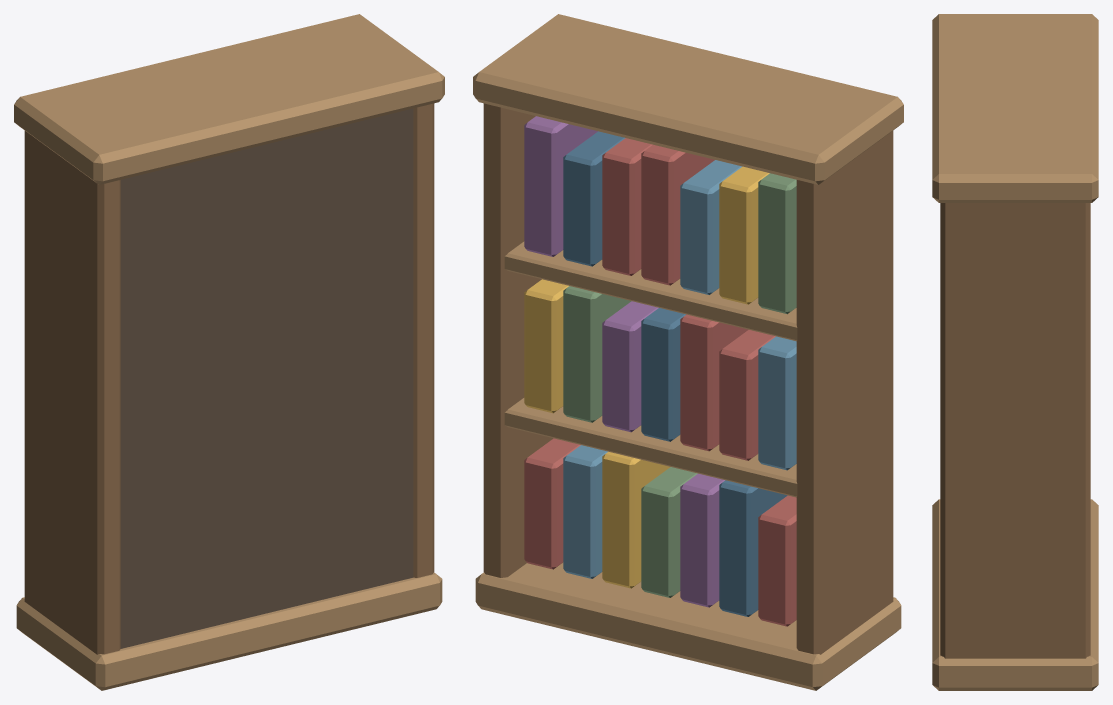
Rendered from BUILD0043_TallBookshelf.fbx.
3 renders of one model, left to right at view 1: azimuth 30°, elevation 25°; view 2: azimuth 150°, elevation 25°; view 3: azimuth 270°, elevation 25°, orthographic. The views are drawn at different scales.
Parts seen in each view (by area): view 1: BUILD0043_TallBookshelf; view 2: BUILD0043_TallBookshelf; view 3: BUILD0043_TallBookshelf.
Boxes of the visible parts, bbox=[...] form: BUILD0043_TallBookshelf: bbox=[14, 14, 444, 690]; BUILD0043_TallBookshelf: bbox=[473, 14, 903, 690]; BUILD0043_TallBookshelf: bbox=[932, 14, 1098, 690].
Size of the model in its own units: 1.46 by 2.13 by 0.62.
